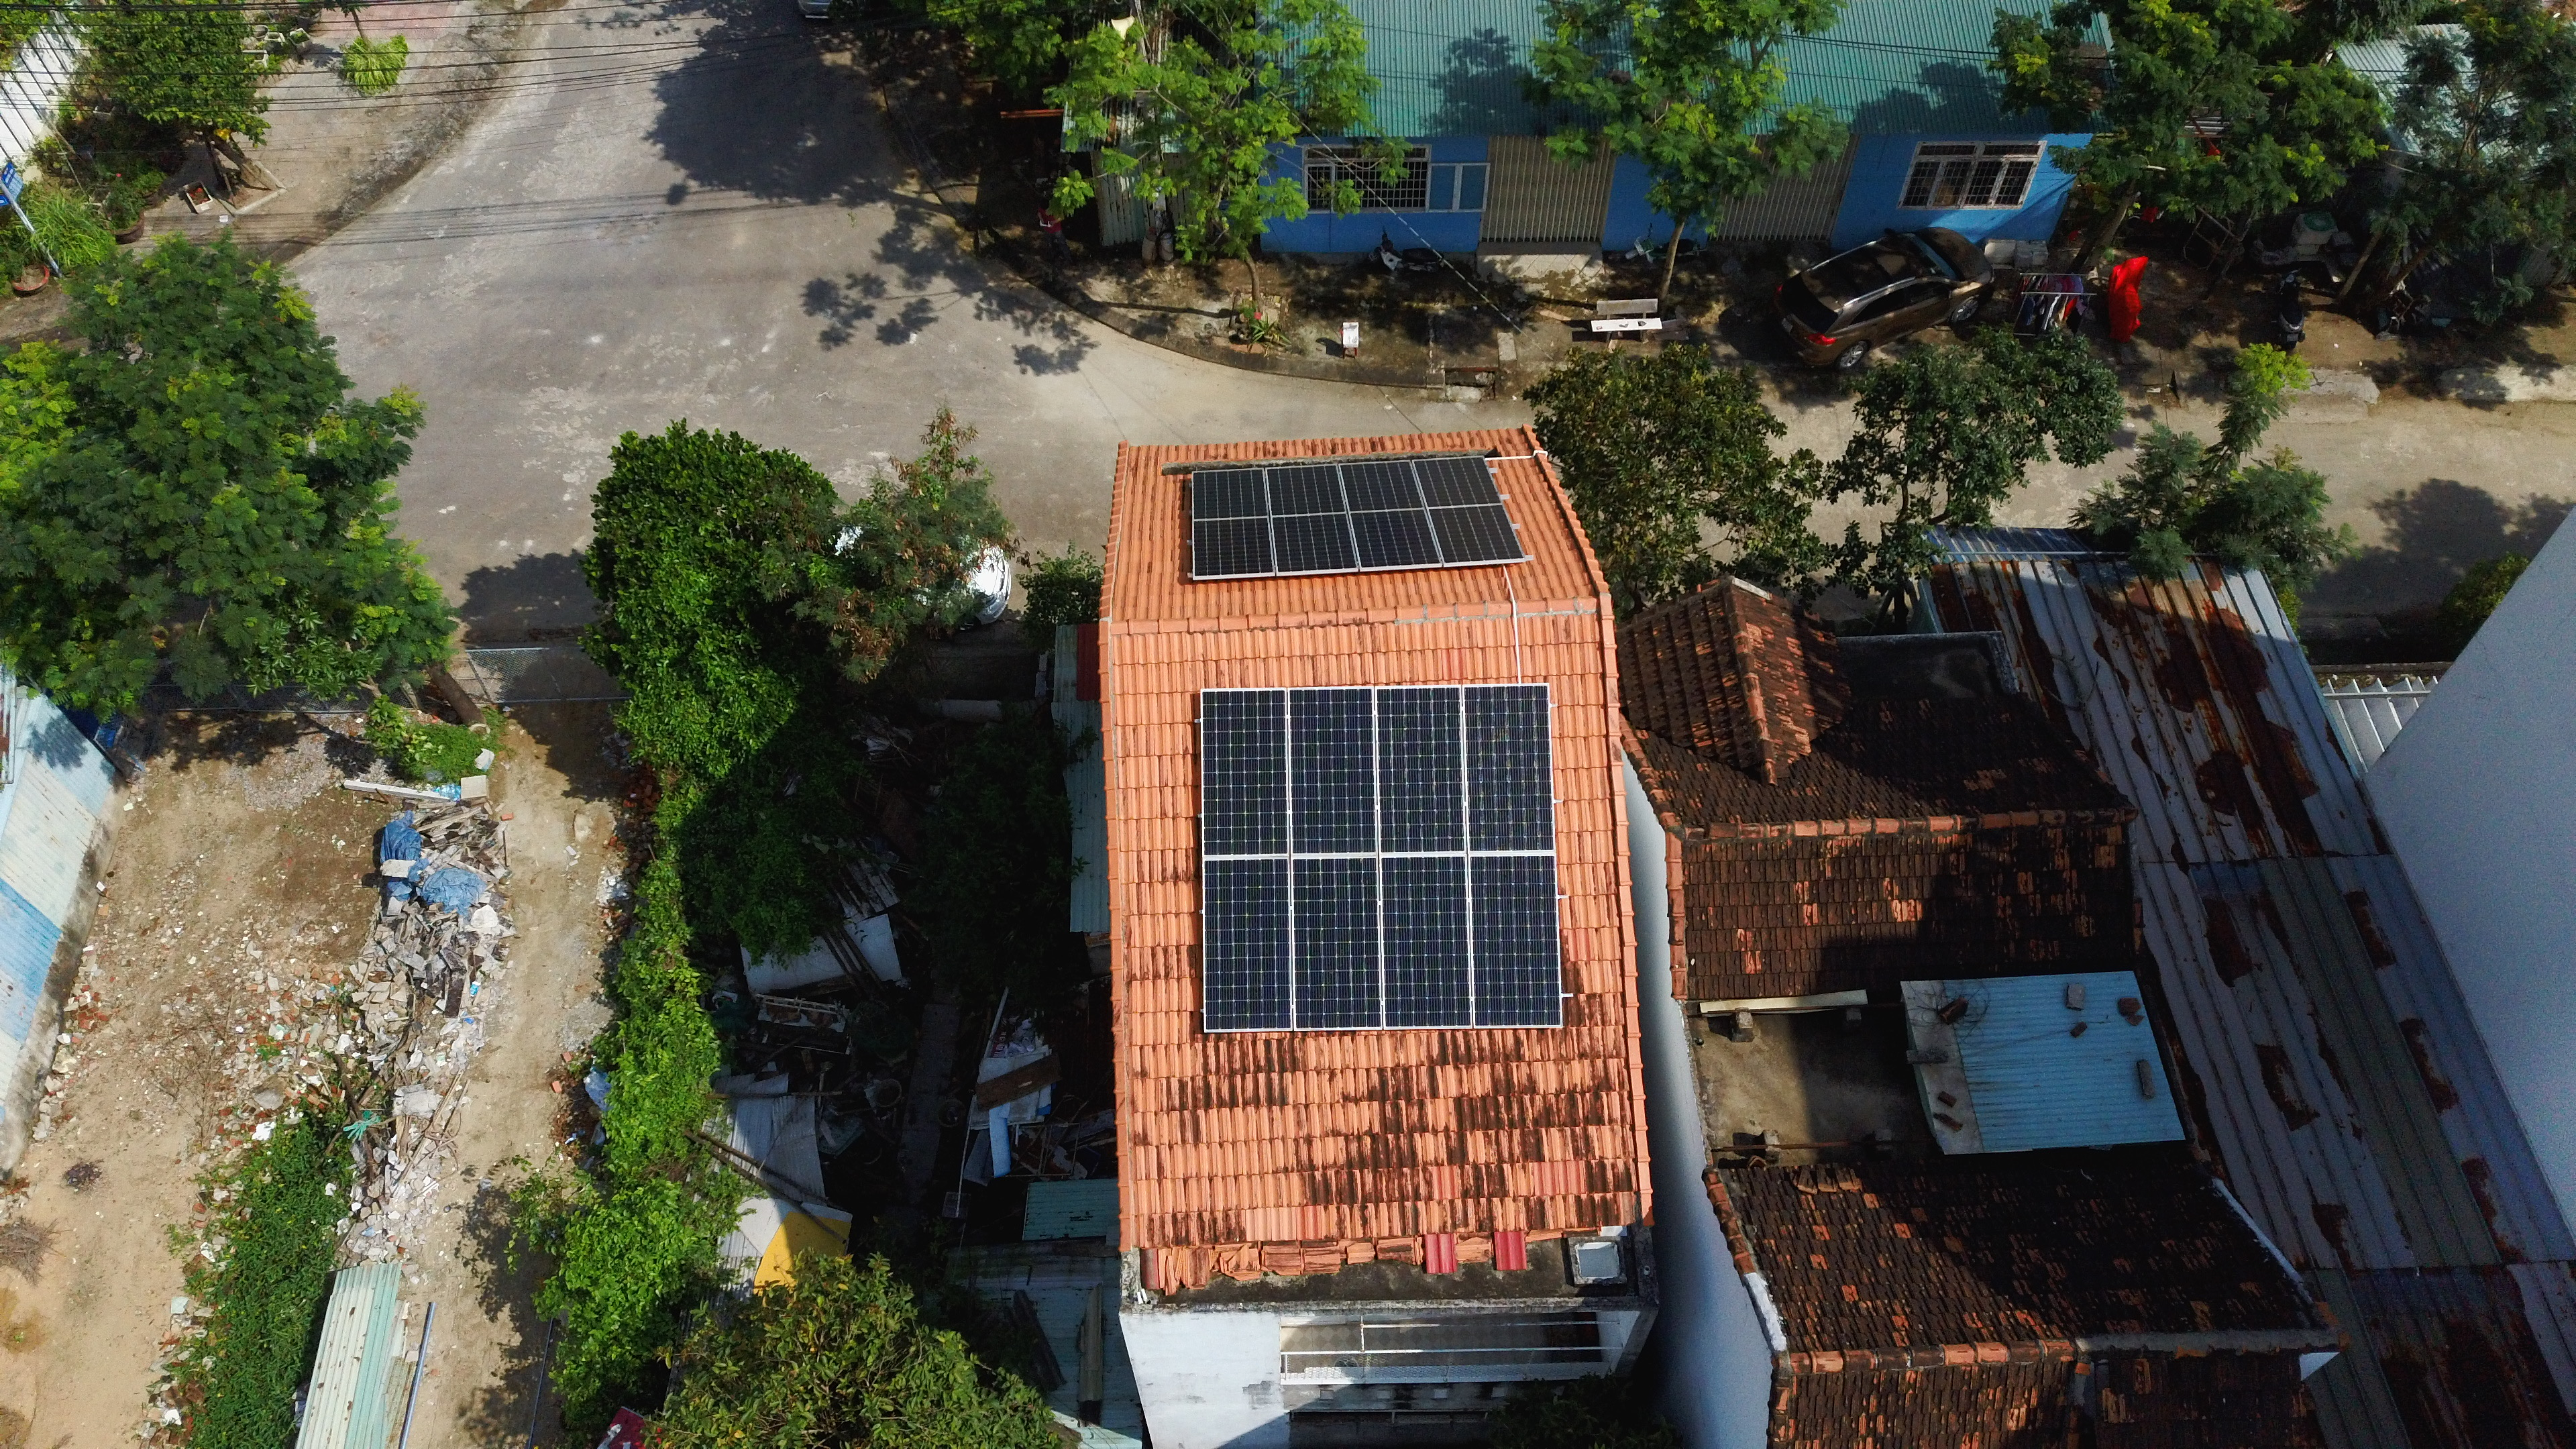solar: (1198, 855, 1295, 1031), (1463, 853, 1560, 1030), (1290, 855, 1385, 1031), (1376, 853, 1472, 1030), (1281, 685, 1378, 858), (1371, 683, 1468, 856), (1461, 681, 1557, 856), (1200, 686, 1295, 860), (1422, 502, 1527, 566), (1345, 508, 1444, 573), (1269, 511, 1359, 577), (1189, 513, 1276, 580), (1332, 458, 1424, 515), (1412, 455, 1504, 510), (1263, 462, 1350, 518), (1191, 467, 1272, 522)
